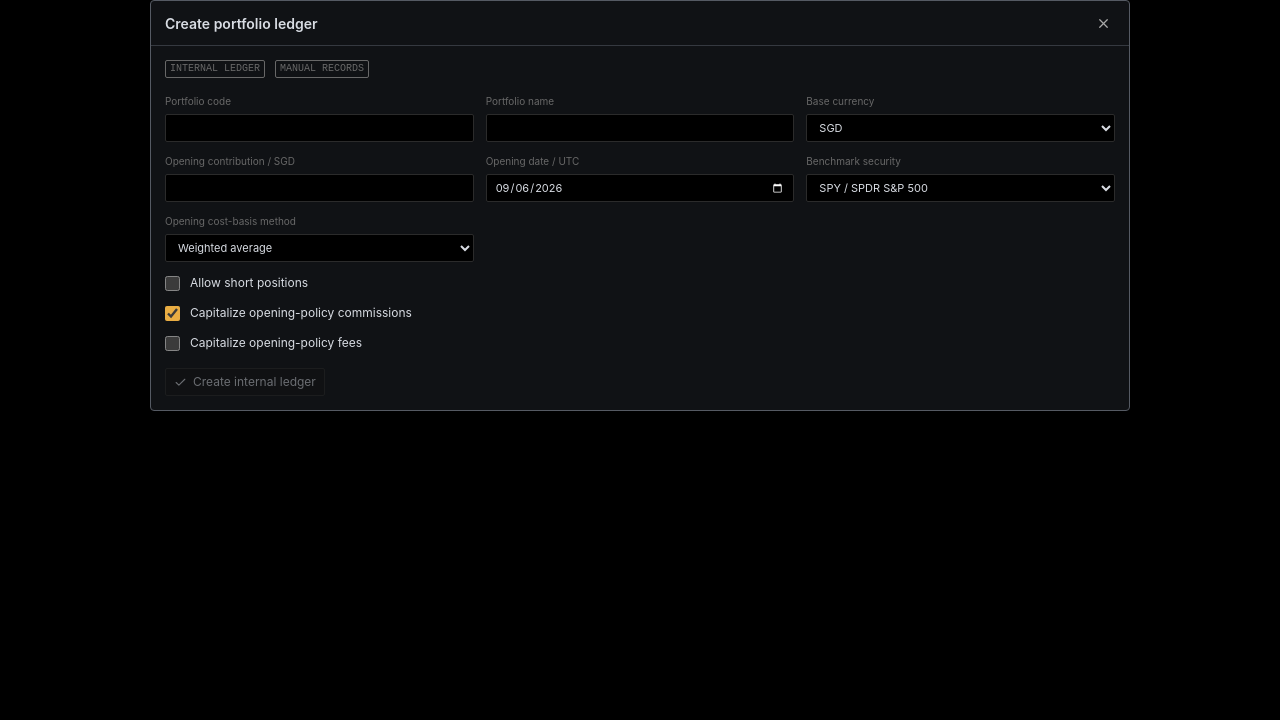
it: explicit portfolio creation › exposes the supported currencies, benchmark list, opening policy and date limit
Check: the field labelled "Portfolio code" is shown, box [165,114,474,142]
Check: the text "Opening date / UTC" is shown, box [486,155,579,167]
Select "USD" in the dropdown labelled "Base currency" at x=961, y=128, box [806,114,1115,142]
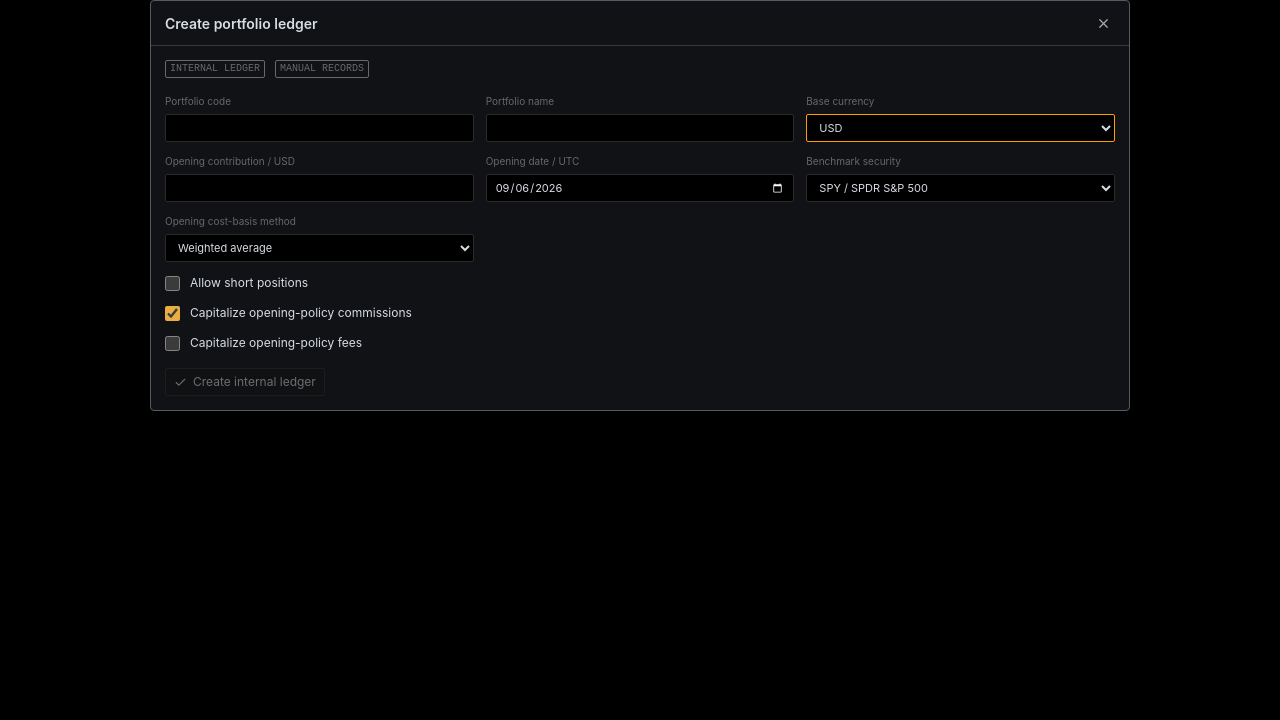
Check: the text "Opening contribution / USD" is shown, box [165,155,295,167]
